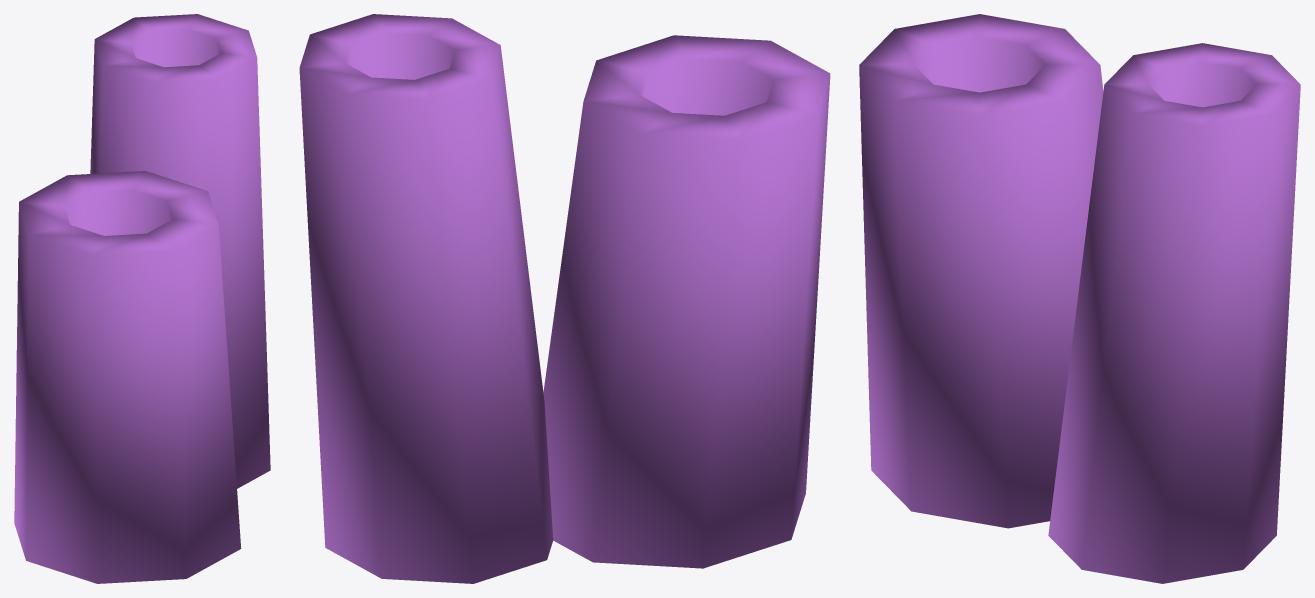
Rendered from Small1.fbx.
The picture shows the model from 3 angles, left to right: view 1: azimuth 30°, elevation 25°; view 2: azimuth 150°, elevation 25°; view 3: azimuth 270°, elevation 25°; orthographic projection. The views are drawn at different scales.
Visible parts, largest first — view 1: Small1; view 2: Small1; view 3: Small1.
Part boxes in pixels (x1,y1,x2,y2): Small1: (14,14,270,583); Small1: (299,14,830,583); Small1: (859,14,1300,583).
Bounding box in the file's own units: 1.49 × 1.78 × 1.55.
